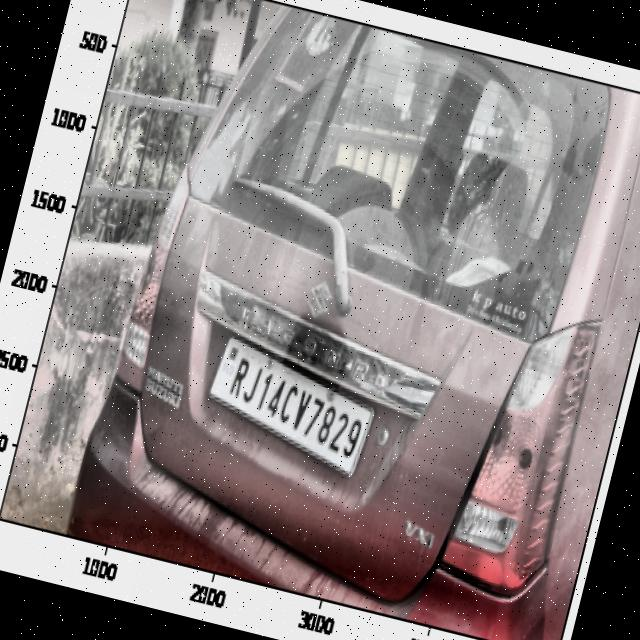license_plate: (215, 343, 376, 466)
